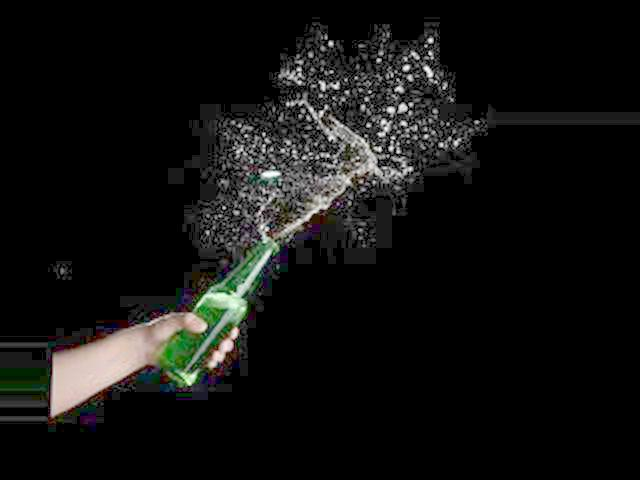beer: (152, 237, 276, 389)
